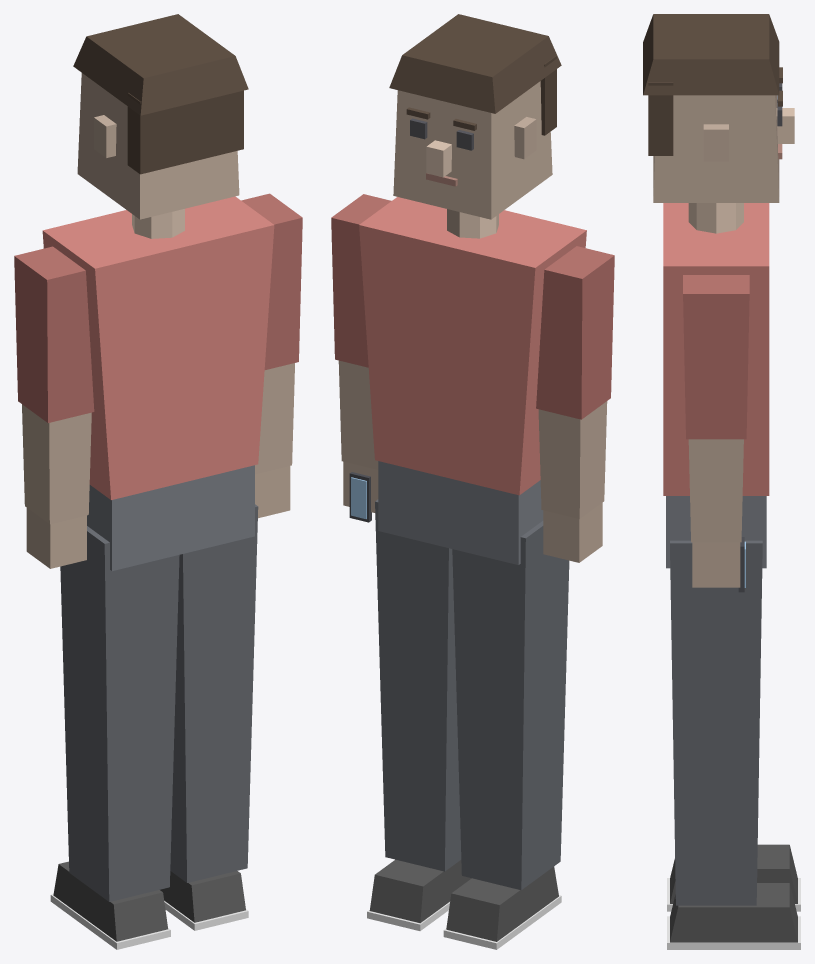
Rendered from man_phone.glb.
3 renders of one model, left to right at view 1: azimuth 30°, elevation 25°; view 2: azimuth 150°, elevation 25°; view 3: azimuth 270°, elevation 25°, orthographic. The views are drawn at different scales.
Parts seen in each view (by area): view 1: Torso, LegMesh, LegMesh2, HeadMesh, ArmMesh, ArmMesh2; view 2: Torso, LegMesh, LegMesh2, HeadMesh, ArmMesh, ArmMesh2, Phone; view 3: LegMesh2, HeadMesh, Torso, ArmMesh2, LegMesh.
Boxes of the visible parts, bbox=[...] form: Torso: bbox=[42, 196, 274, 571]; LegMesh: bbox=[50, 526, 179, 949]; LegMesh2: bbox=[160, 504, 258, 930]; HeadMesh: bbox=[73, 14, 248, 219]; ArmMesh: bbox=[14, 246, 94, 568]; ArmMesh2: bbox=[241, 193, 302, 518]; Torso: bbox=[359, 197, 586, 564]; LegMesh: bbox=[443, 521, 569, 949]; LegMesh2: bbox=[367, 499, 471, 930]; HeadMesh: bbox=[389, 14, 561, 219]; ArmMesh: bbox=[536, 246, 614, 562]; ArmMesh2: bbox=[331, 194, 391, 512]; Phone: bbox=[349, 472, 371, 522]; LegMesh2: bbox=[667, 540, 800, 949]; HeadMesh: bbox=[643, 14, 794, 202]; Torso: bbox=[663, 203, 769, 568]; ArmMesh2: bbox=[683, 275, 749, 587]; LegMesh: bbox=[667, 844, 800, 911].
Size of the model in its own units: 0.591 by 1.93 by 0.3125.
